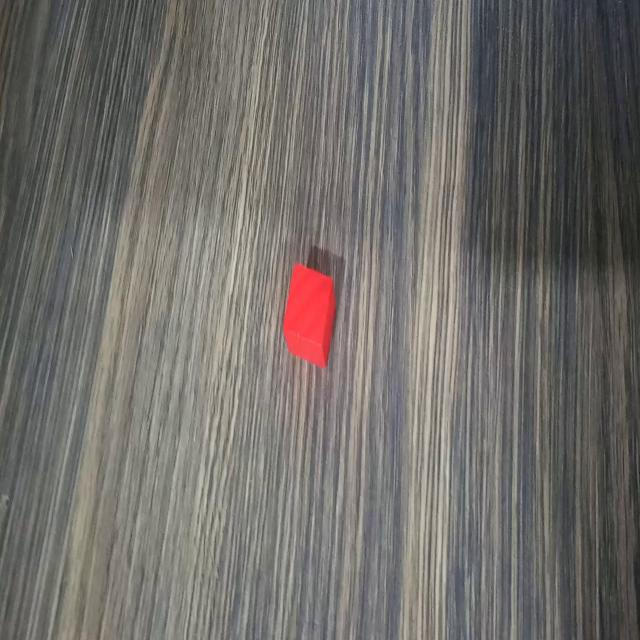cube: (281, 259, 337, 370)
